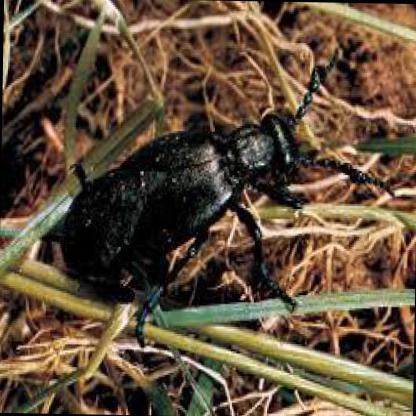blister beetle: (61, 49, 391, 308)
